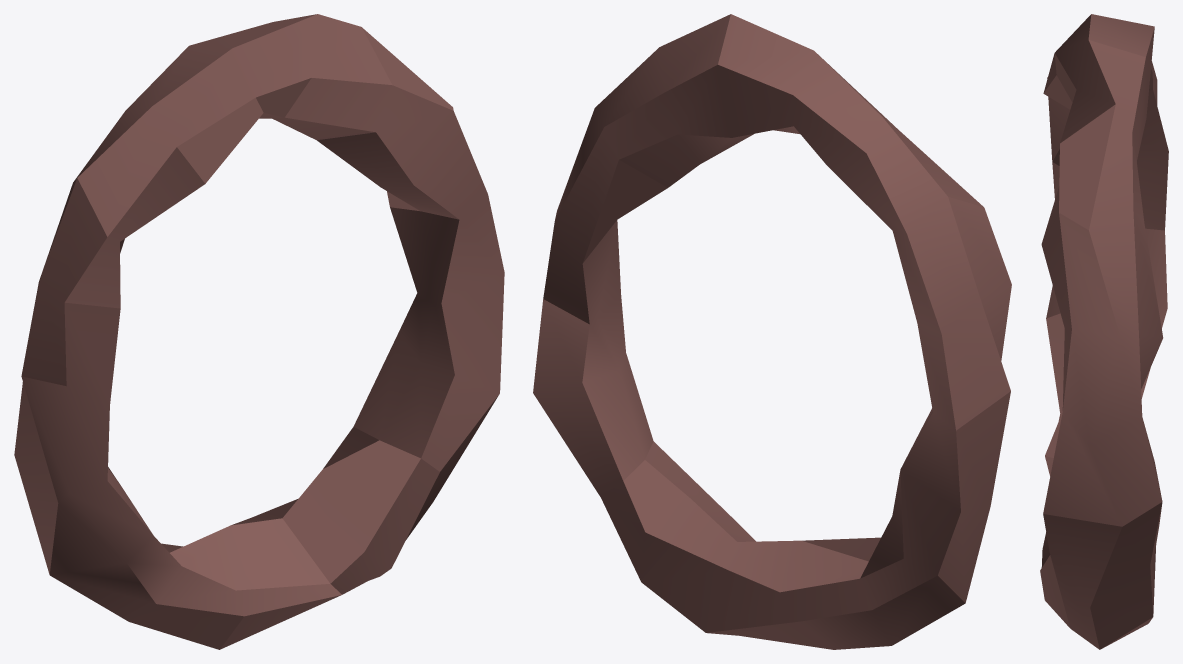
Rendered from cavemouth_01.glb.
3 views of the same model, side by side, from view 1: azimuth 30°, elevation 25°; view 2: azimuth 150°, elevation 25°; view 3: azimuth 270°, elevation 25° (orthographic).
Parts seen in each view (by area): view 1: cavemouth_01; view 2: cavemouth_01; view 3: cavemouth_01.
Part boxes in pixels (box(x1,y1,x2,y2)): cavemouth_01: box(14, 14, 504, 649); cavemouth_01: box(533, 14, 1011, 649); cavemouth_01: box(1040, 14, 1168, 649).
Size of the model in its own units: 7.7 by 9.73 by 1.88.
